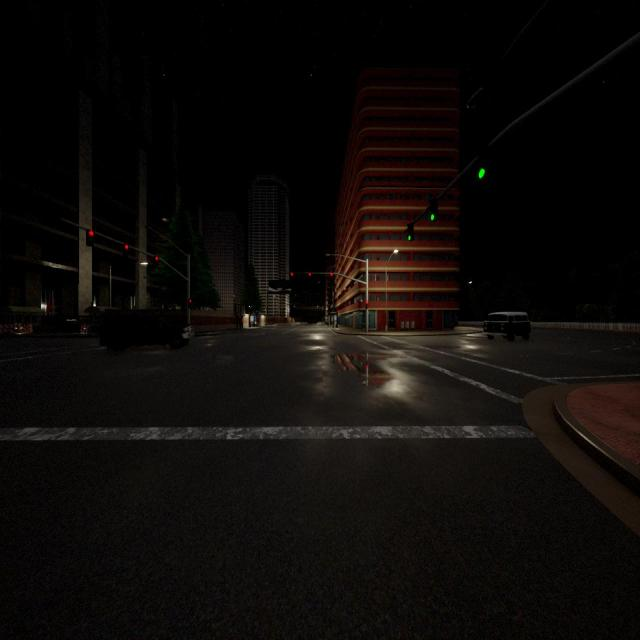Vehicle: (98, 308, 185, 350), (483, 312, 532, 343)
traffic_light: (430, 201, 438, 222), (86, 229, 94, 246), (407, 223, 414, 242), (122, 243, 129, 260), (478, 168, 486, 180), (152, 255, 158, 268), (188, 299, 192, 308), (365, 300, 368, 309), (290, 273, 294, 276), (330, 273, 333, 276), (309, 273, 311, 276)
